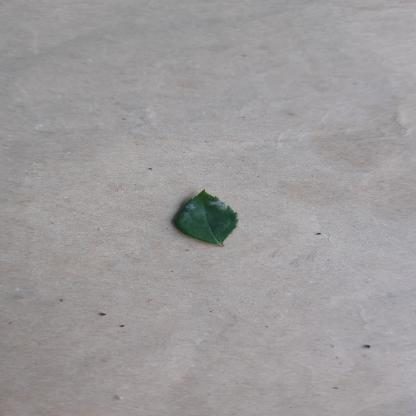powdery-mildew: (166, 184, 260, 249)
